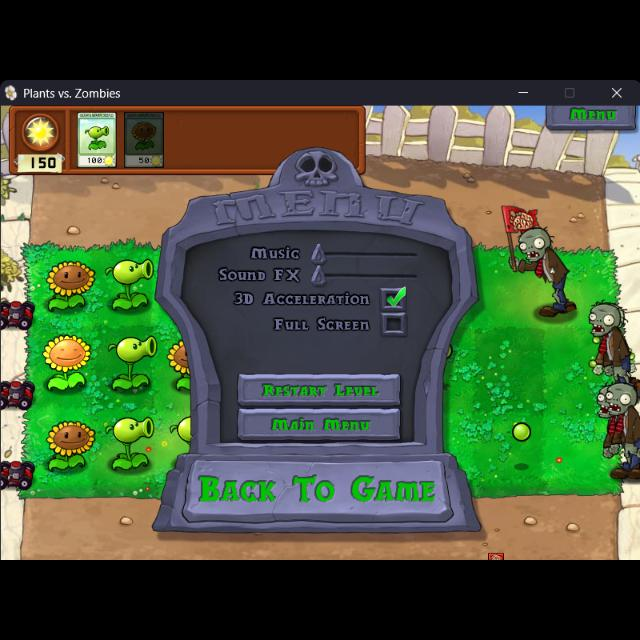BTG Button: (185, 456, 452, 522)
Flag Zombie: (500, 202, 578, 320)
Garden: (20, 242, 626, 500)
Main Menu Button: (238, 411, 400, 441)
Menu Button: (548, 102, 636, 132)
Mower: (0, 375, 36, 413), (0, 458, 38, 492), (0, 294, 34, 330)
Pause Menu: (153, 147, 487, 537)
Peashooter: (74, 111, 118, 169)
Peashooter Seed: (101, 255, 157, 317), (106, 332, 158, 396), (102, 415, 154, 473), (170, 416, 192, 442)
Restart Level Button: (236, 372, 404, 408)
Seed Panel: (12, 108, 366, 176)
Sunflower: (123, 110, 165, 172)
Sunflower Seed: (43, 412, 93, 476), (43, 256, 95, 316), (40, 333, 90, 393), (166, 332, 194, 392)
Zombie: (592, 380, 640, 484), (590, 300, 640, 382)
